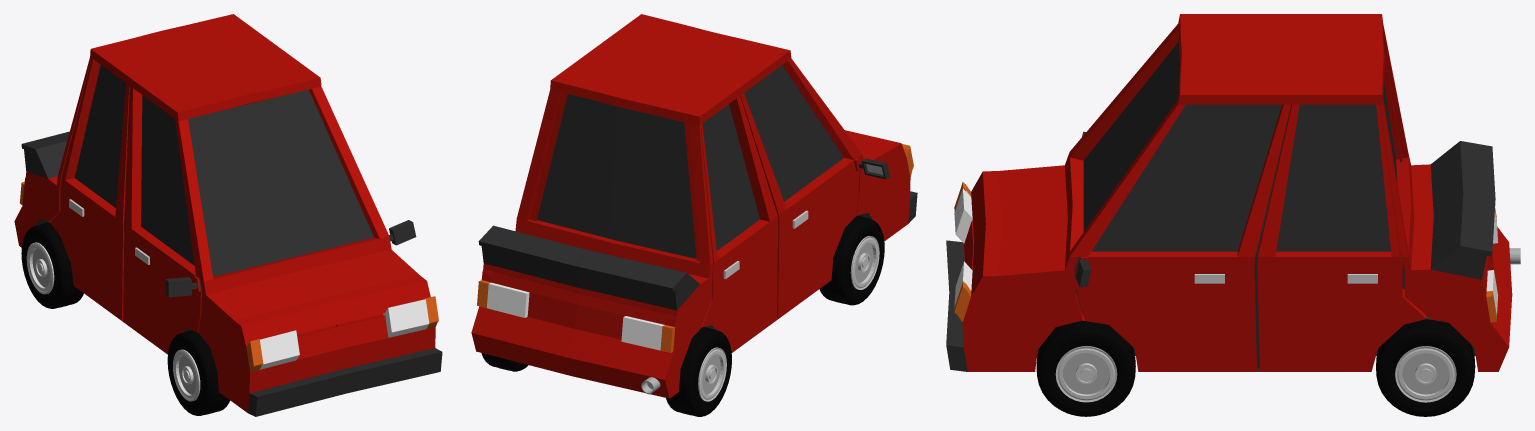
File: CR-CAR-2.fbx
The picture shows the model from 3 angles, left to right: view 1: azimuth 30°, elevation 25°; view 2: azimuth 150°, elevation 25°; view 3: azimuth 270°, elevation 25°; orthographic projection. The views are drawn at different scales.
Parts seen in each view (by area): view 1: BODY, WHEEL.001, WHEEL.004; view 2: BODY, WHEEL.004, WHEEL.001, WHEEL.002; view 3: BODY, WHEEL.002, WHEEL.003.
Boxes of the visible parts, x1=… form: BODY: x1=14, y1=14, x2=442, y2=416; WHEEL.001: x1=167, y1=330, x2=229, y2=415; WHEEL.004: x1=21, y1=222, x2=83, y2=308; BODY: x1=471, y1=14, x2=917, y2=398; WHEEL.004: x1=666, y1=327, x2=731, y2=416; WHEEL.001: x1=819, y1=215, x2=884, y2=305; WHEEL.002: x1=481, y1=353, x2=528, y2=371; BODY: x1=946, y1=14, x2=1512, y2=371; WHEEL.002: x1=1376, y1=319, x2=1475, y2=416; WHEEL.003: x1=1036, y1=320, x2=1135, y2=416.
Bounding box in the file's own units: 131 × 133 × 226.
